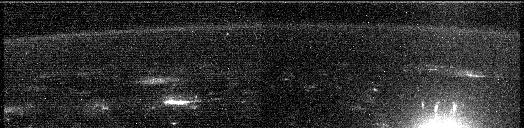positive: (428, 95, 460, 120)
